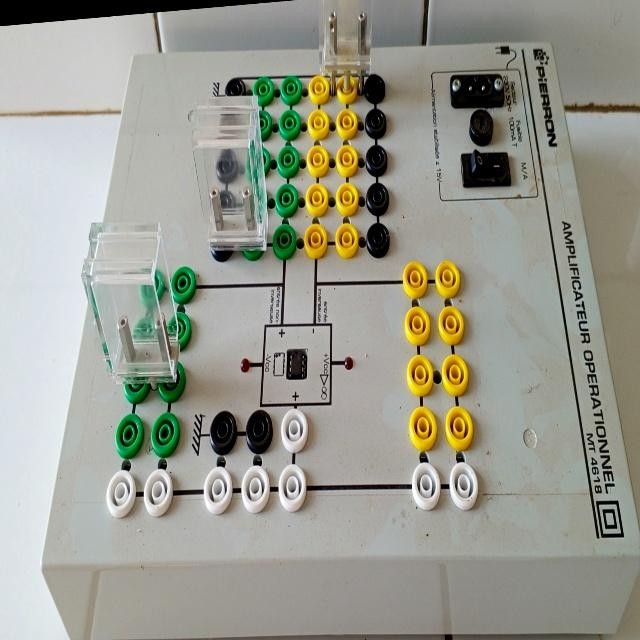Operational Amplifier Board: (18, 0, 640, 640)
